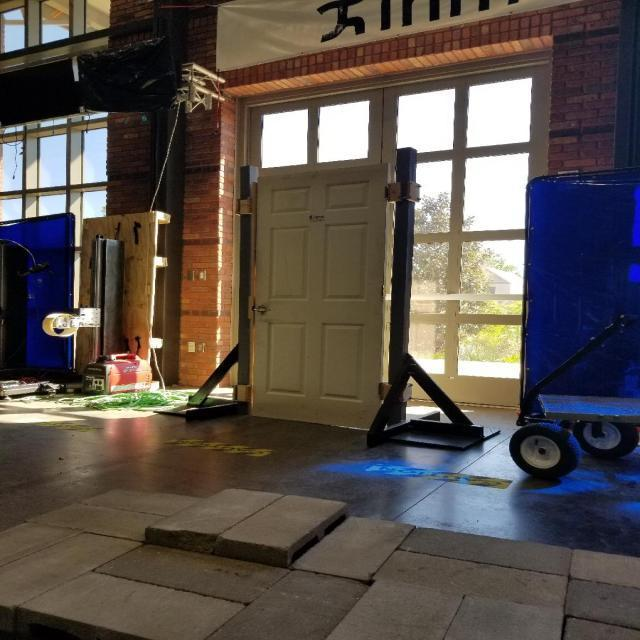door: (250, 158, 392, 438), (253, 303, 270, 316)
